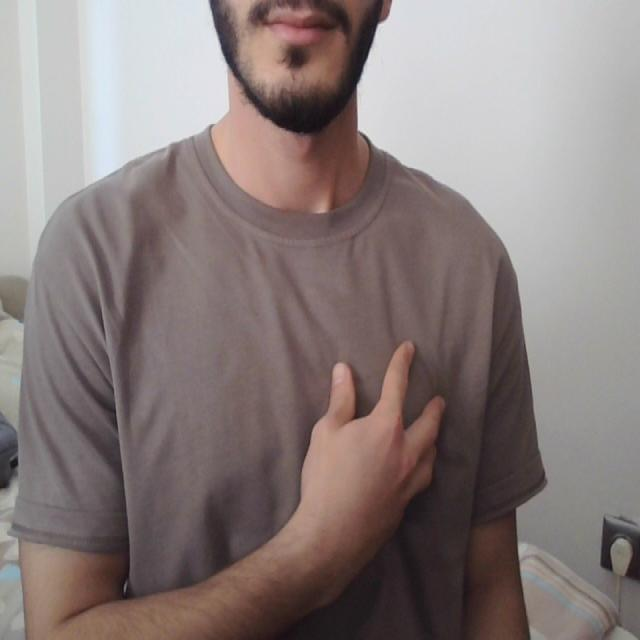Anne: (148, 337, 516, 588)
